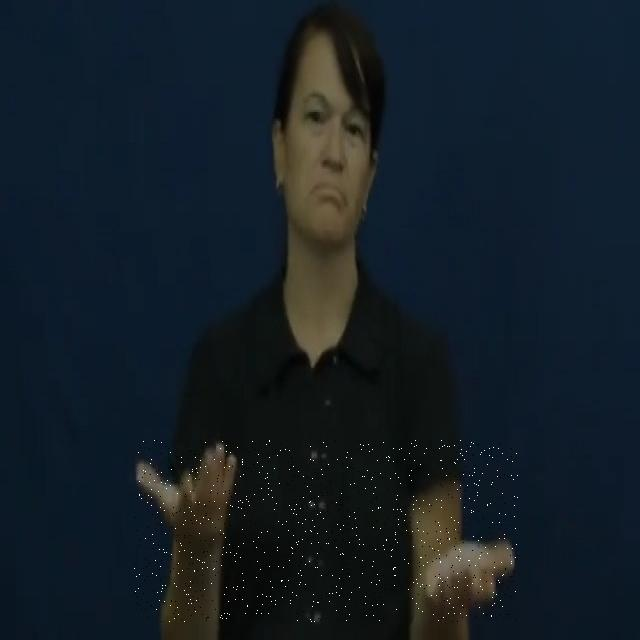lid: (134, 440, 518, 622)
